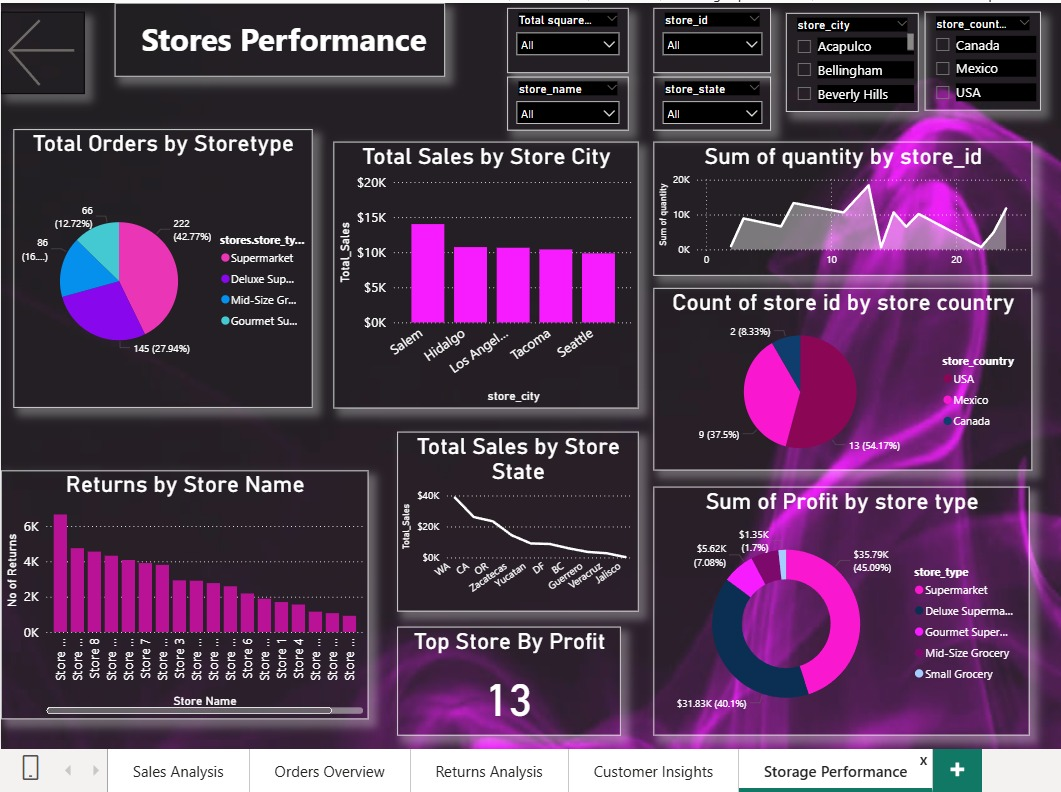

Layout of this report page (visuals, bound fields, positions):
{"tool":"powerbi","page":{"name":"Storage Performance","canvas":[1280,900],"ordinal":4},"visuals":[{"type":"textbox","box":[137.2,0,398.1,89],"z":0},{"type":"columnChart","title":"Returns by Store Name","fields":{"Category":["stores.store_name"],"Y":["returns.Total_NoOfReturns"]},"box":[0,564,443.4,300.1],"z":1000},{"type":"lineChart","title":"Total Sales by Store State","fields":{"Category":["stores.store_state"],"Y":["transactions.Total_Sales"]},"box":[478.1,517.3,291.1,217.2],"z":2000},{"type":"cardVisual","title":"Top Store By Profit","fields":{"Data":["transactions.Top_Store_By_Profit"]},"box":[478.1,752.5,269.9,131.2],"z":3000},{"type":"actionButton","box":[0,10.1,100.8,99.1],"z":4000},{"type":"columnChart","title":"Total Sales by Store City","fields":{"Category":["stores.store_city"],"Y":["transactions.Total_Sales"]},"box":[401.1,167.4,368,321.2],"z":5000},{"type":"pieChart","title":"Total Orders by Storetype","fields":{"Category":["returns.stores.store_type"],"Y":["transactions.Total_Orders"]},"box":[15.1,152.3,360.4,336.3],"z":6000},{"type":"donutChart","title":"Sum of Profit by store type","fields":{"Category":["stores.store_type"],"Y":["Sum(transactions.Profit)"]},"box":[787.2,583.6,453.9,300.1],"z":7000},{"type":"pieChart","title":"Count of store id by store country","fields":{"Category":["stores.store_country"],"Y":["CountNonNull(stores.store_id)"]},"box":[787.2,343.8,456.9,220.2],"z":8000},{"type":"slicer","fields":{"Values":["stores.total_sqft"]},"box":[610.8,6,146.3,78.4],"z":9000},{"type":"stackedAreaChart","fields":{"Category":["stores.store_id"],"Y":["Sum(transaction1997.quantity)"]},"box":[787.2,167.4,456.9,161.4],"z":10000},{"type":"slicer","fields":{"Values":["stores.store_id"]},"box":[787.2,6,141.8,78.4],"z":11000},{"type":"slicer","fields":{"Values":["stores.store_city"]},"box":[947.1,12.1,159.9,119.1],"z":12000},{"type":"slicer","fields":{"Values":["stores.store_name"]},"box":[610.8,89,146.3,64.8],"z":13000},{"type":"slicer","fields":{"Values":["stores.store_country"]},"box":[1114.4,10.6,140.2,119.1],"z":14000},{"type":"slicer","fields":{"Values":["stores.store_state"]},"box":[787.2,89,141.8,64.8],"z":15000}]}

Visuals, with their boxes on the page's 1280x900 design canvas (x1, y1, x2, y2). These are canvas units, not pixel positions in the 1061x792 screenshot, which may show the page scaled, cropped or inside an application window:
textbox: <bbox>137, 0, 535, 89</bbox>
"Returns by Store Name" columnChart: <bbox>0, 564, 443, 864</bbox>
"Total Sales by Store State" lineChart: <bbox>478, 517, 769, 734</bbox>
"Top Store By Profit" cardVisual: <bbox>478, 752, 748, 884</bbox>
actionButton: <bbox>0, 10, 101, 109</bbox>
"Total Sales by Store City" columnChart: <bbox>401, 167, 769, 489</bbox>
"Total Orders by Storetype" pieChart: <bbox>15, 152, 376, 489</bbox>
"Sum of Profit by store type" donutChart: <bbox>787, 584, 1241, 884</bbox>
"Count of store id by store country" pieChart: <bbox>787, 344, 1244, 564</bbox>
slicer - stores.total_sqft: <bbox>611, 6, 757, 84</bbox>
stackedAreaChart - stores.store_id x Sum(transaction1997.quantity): <bbox>787, 167, 1244, 329</bbox>
slicer - stores.store_id: <bbox>787, 6, 929, 84</bbox>
slicer - stores.store_city: <bbox>947, 12, 1107, 131</bbox>
slicer - stores.store_name: <bbox>611, 89, 757, 154</bbox>
slicer - stores.store_country: <bbox>1114, 11, 1255, 130</bbox>
slicer - stores.store_state: <bbox>787, 89, 929, 154</bbox>
